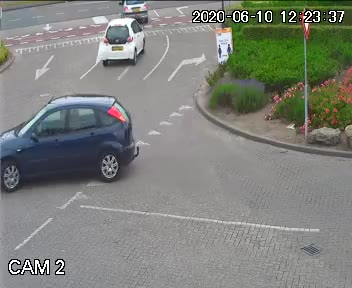car: (0, 89, 146, 201), (90, 14, 155, 67), (120, 0, 151, 19)
